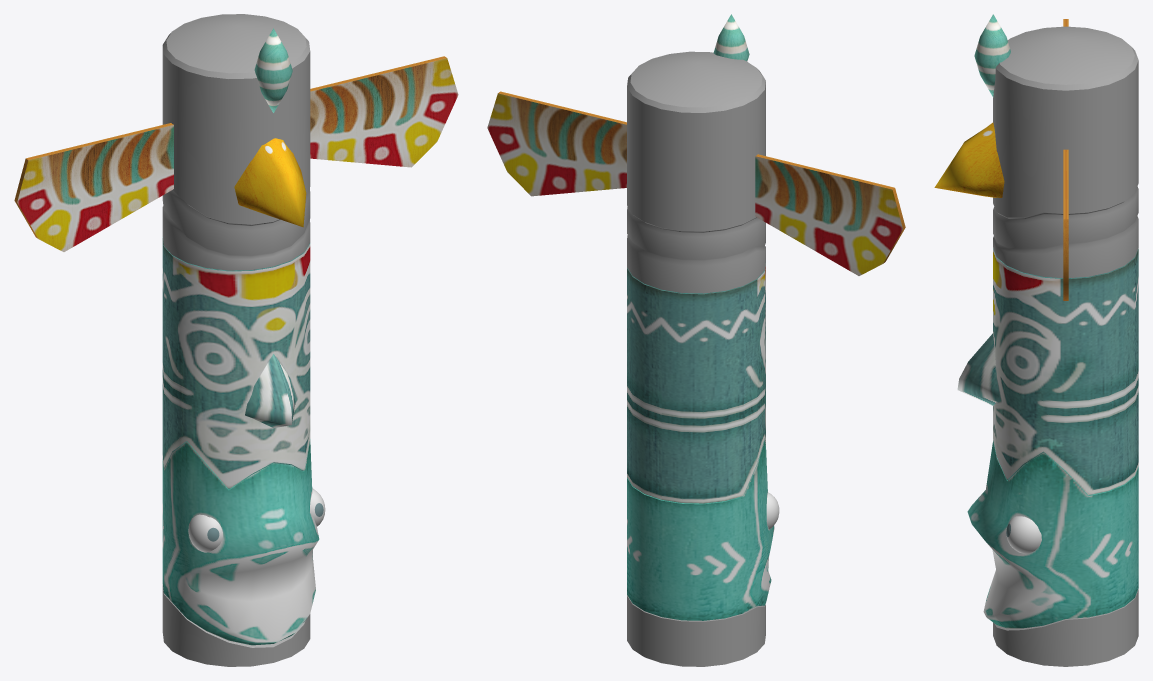
The model's file is MtotemFull5.fbx.
3 views of the same model, side by side, from view 1: azimuth 30°, elevation 25°; view 2: azimuth 150°, elevation 25°; view 3: azimuth 270°, elevation 25° (orthographic). The views are drawn at different scales.
Parts seen in each view (by area): view 1: polySurface11, polySurface13, polySurface14; view 2: polySurface11, polySurface13, polySurface14; view 3: polySurface11, polySurface13, polySurface14.
Part boxes in pixels (x1,y1,x2,y2): polySurface11: (14, 14, 458, 270); polySurface13: (162, 237, 310, 489); polySurface14: (162, 439, 325, 666); polySurface11: (487, 14, 905, 293); polySurface13: (627, 263, 765, 503); polySurface14: (627, 439, 779, 666); polySurface11: (934, 14, 1138, 300); polySurface13: (957, 248, 1138, 495); polySurface14: (967, 440, 1138, 666).
Size of the model in its own units: 160 by 219 by 65.21.
